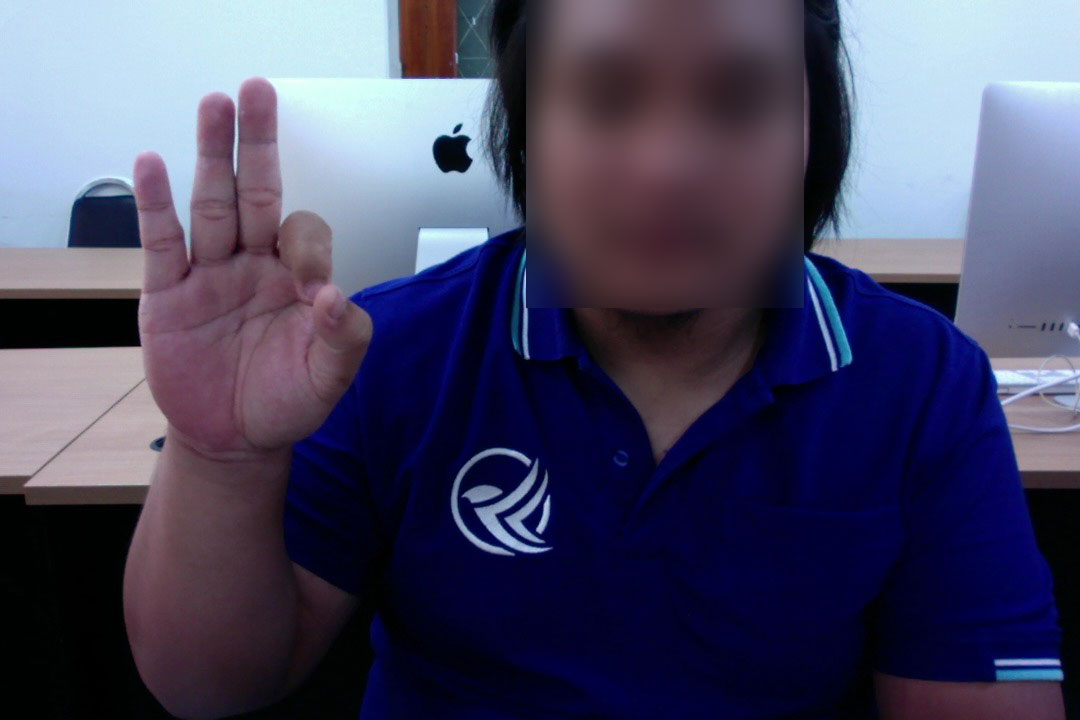for: (103, 59, 388, 497)
